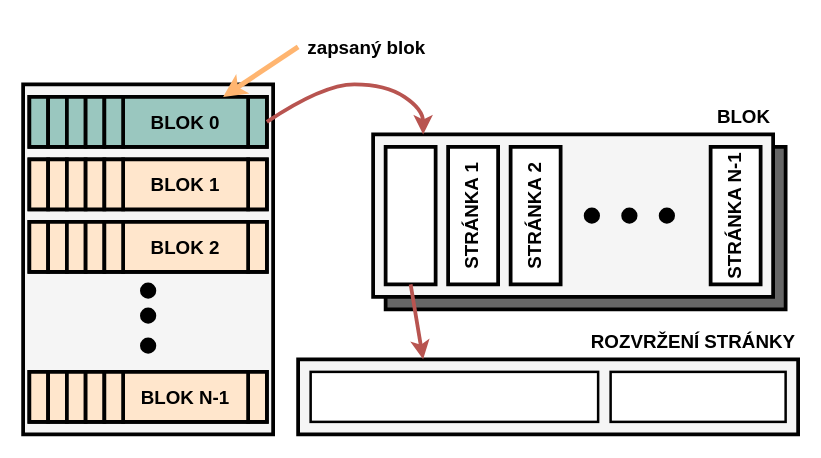
This 821x458 diagram has some shape labels left out. The shapes that lost their labels are listed below. From the top down, each one's box as (x1, y1, x2, y2) in pixels, then its label:
(383, 144, 437, 286): STRÁNKA 0
(309, 370, 599, 422): DATOVÁ OBLAST (512 - 2048 bajtů)
(609, 370, 786, 422): OBLAST METADAT 16 - 64 bajtů
